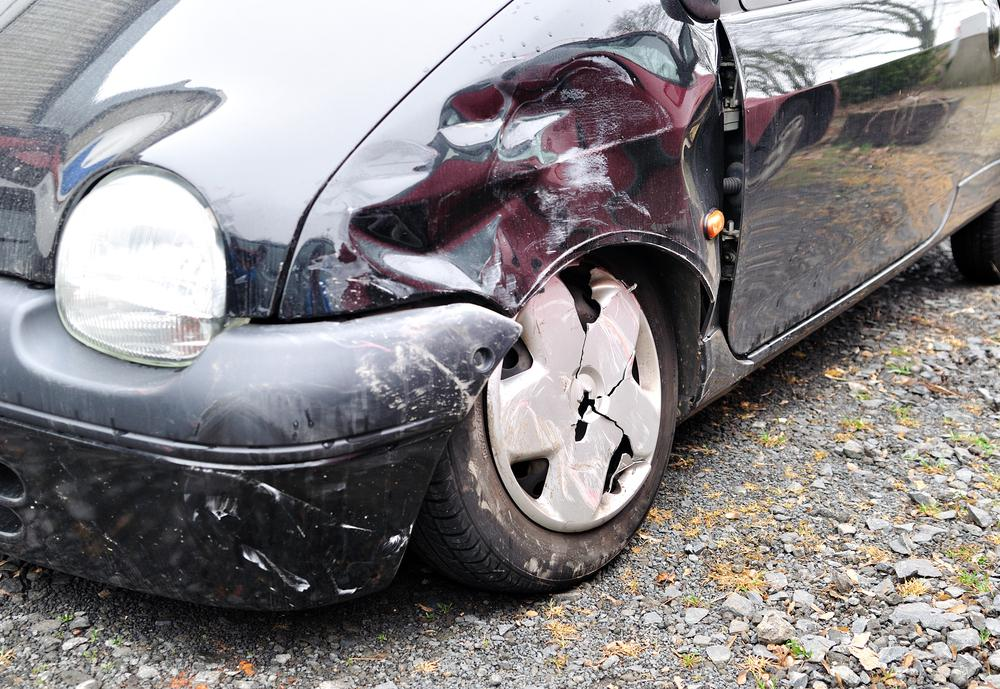crack: (574, 348, 640, 499), (556, 269, 604, 383)
dent: (335, 30, 720, 308)
scratch: (176, 467, 413, 595)
